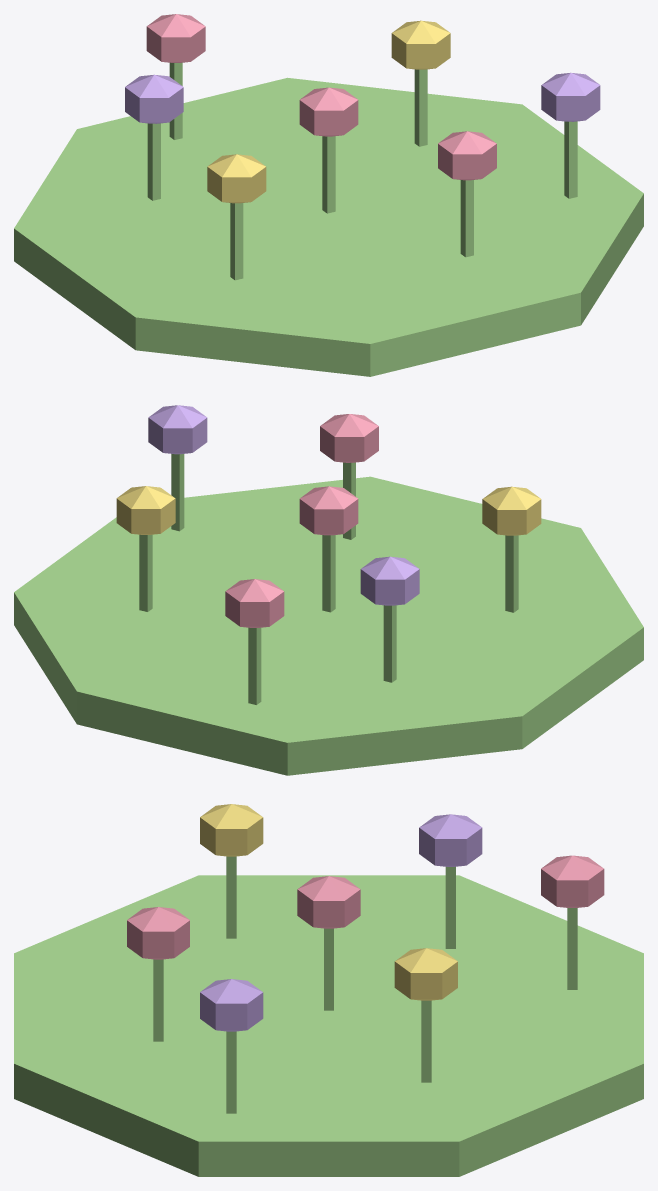
The model's file is flower_patch.glb.
3 renders of one model, top to bottom at view 1: azimuth 30°, elevation 25°; view 2: azimuth 150°, elevation 25°; view 3: azimuth 270°, elevation 25°, orthographic. The views are drawn at different scales.
Parts seen in each view (by area): view 1: Player; view 2: Player; view 3: Player.
Part boxes in pixels (x1,y1,x2,y2): Player: (14, 14, 643, 376); Player: (14, 405, 643, 775); Player: (14, 804, 643, 1176).
Bounding box in the file's own units: 1.29 × 0.38 × 1.29.
